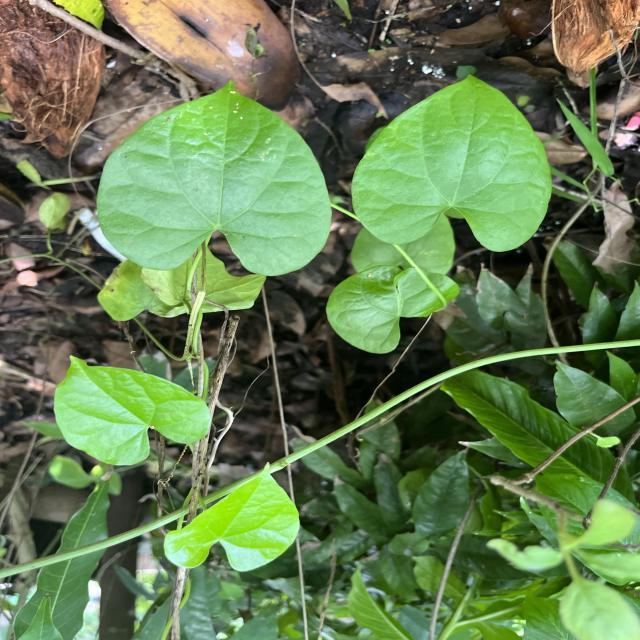Tinospora cordifolia: (93, 76, 335, 278), (349, 71, 555, 256), (52, 353, 213, 468), (162, 461, 302, 576)
